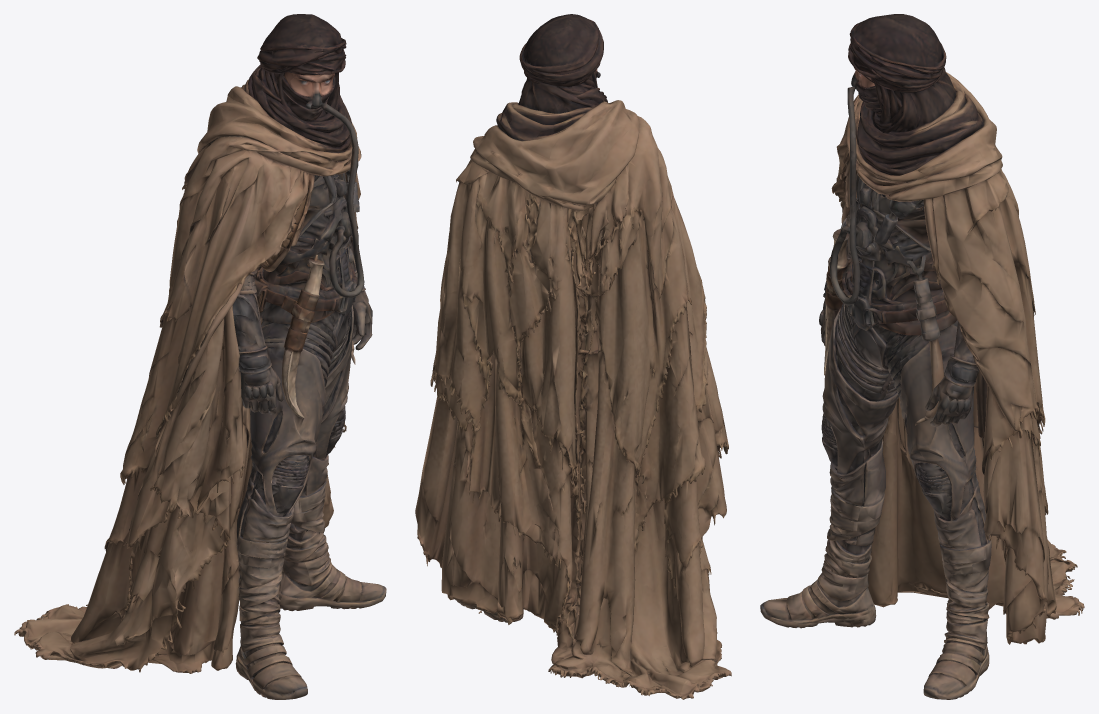
Rendered from 黑袍剑客.glb.
The picture shows the model from 3 angles, left to right: view 1: azimuth 30°, elevation 25°; view 2: azimuth 150°, elevation 25°; view 3: azimuth 270°, elevation 25°; orthographic projection. The views are drawn at different scales.
Size of the model in its own units: 0.5568 by 1.02 by 0.4696.
1 material, 1 textured.
